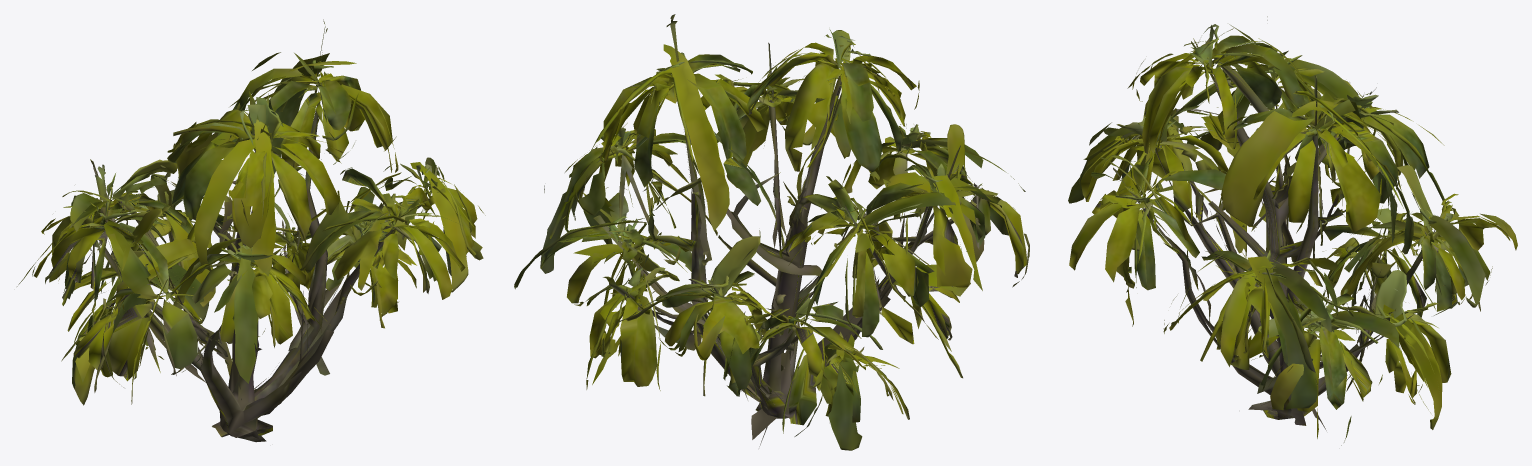
Rendered from tree_01_umbrella_canopy.glb.
3 renders of one model, left to right at view 1: azimuth 30°, elevation 25°; view 2: azimuth 150°, elevation 25°; view 3: azimuth 270°, elevation 25°, orthographic. The views are drawn at different scales.
Parts seen in each view (by area): view 1: geometry_0; view 2: geometry_0; view 3: geometry_0.
Boxes of the visible parts, x1,y1,x2,y2 form: geometry_0: (17, 19, 485, 442); geometry_0: (514, 14, 1029, 450); geometry_0: (1068, 16, 1517, 445).
Bounding box in the file's own units: 1.17 × 1 × 0.9647.
Materials: 1 (1 with a texture image).
